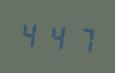four: (18, 16, 42, 51), (44, 18, 68, 53)
seven: (69, 21, 93, 56)
